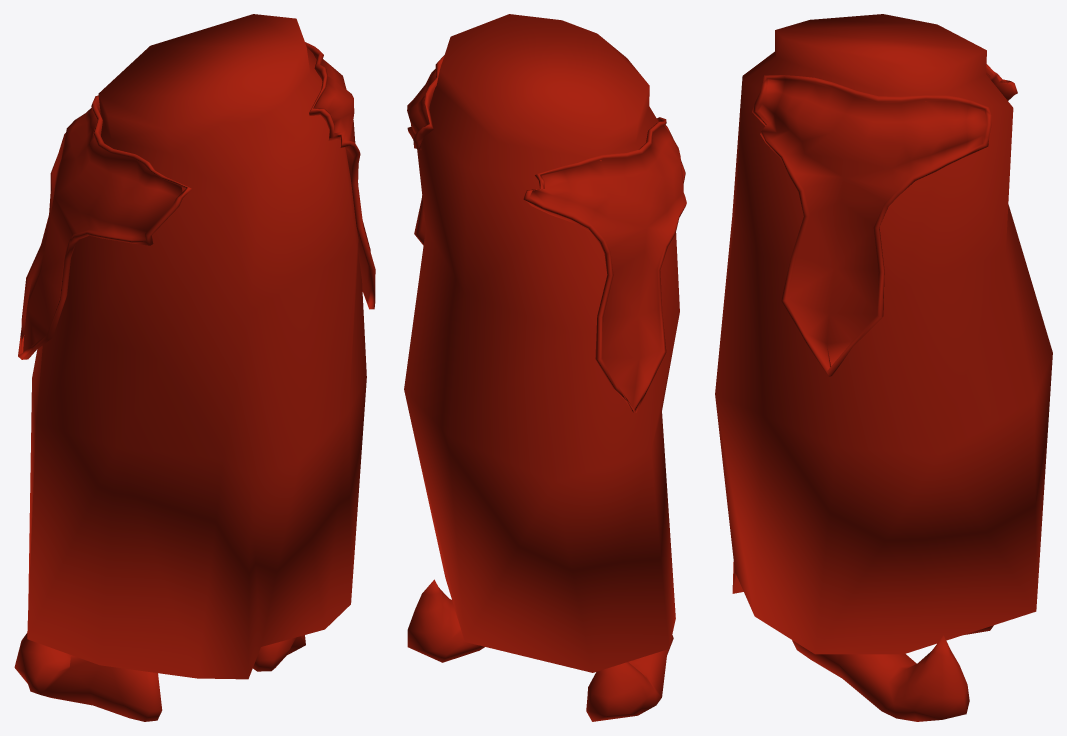
File: bot_000135.obj
3 renders of one model, left to right at view 1: azimuth 30°, elevation 25°; view 2: azimuth 150°, elevation 25°; view 3: azimuth 270°, elevation 25°, orthographic. The views are drawn at different scales.
Parts seen in each view (by area): view 1: LowPoly_Warlock.004_Plane.004; view 2: LowPoly_Warlock.004_Plane.004; view 3: LowPoly_Warlock.004_Plane.004.
Boxes of the visible parts, box(x1,y1,x2,y2) form: LowPoly_Warlock.004_Plane.004: box(14, 14, 375, 721); LowPoly_Warlock.004_Plane.004: box(404, 14, 686, 721); LowPoly_Warlock.004_Plane.004: box(715, 14, 1052, 721).
Bounding box in the file's own units: 0.5533 × 1.16 × 0.5267.
